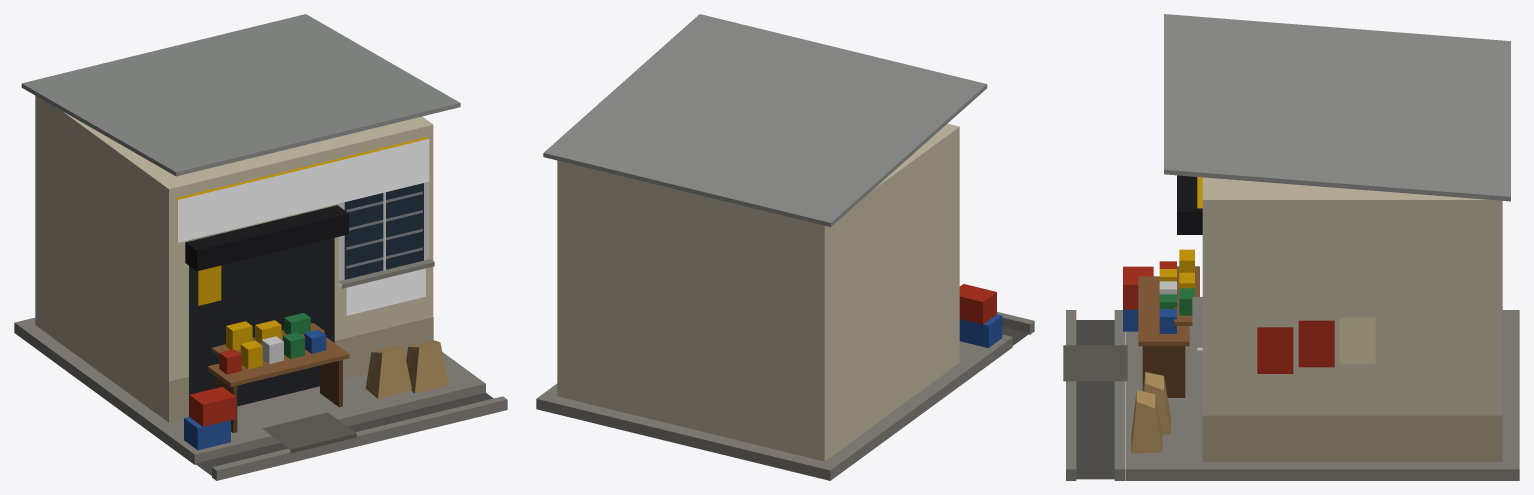
File: shop_provisions.glb
3 renders of one model, left to right at view 1: azimuth 30°, elevation 25°; view 2: azimuth 150°, elevation 25°; view 3: azimuth 270°, elevation 25°, orthographic. The views are drawn at different scales.
Parts seen in each view (by area): view 1: body; view 2: body; view 3: body.
Boxes of the visible parts, left/top/right/bottom form: body: left=14, top=14, right=507, bottom=480; body: left=536, top=14, right=1034, bottom=480; body: left=1063, top=14, right=1519, bottom=480.
Bounding box in the file's own units: 4.4 × 3.98 × 5.32.
